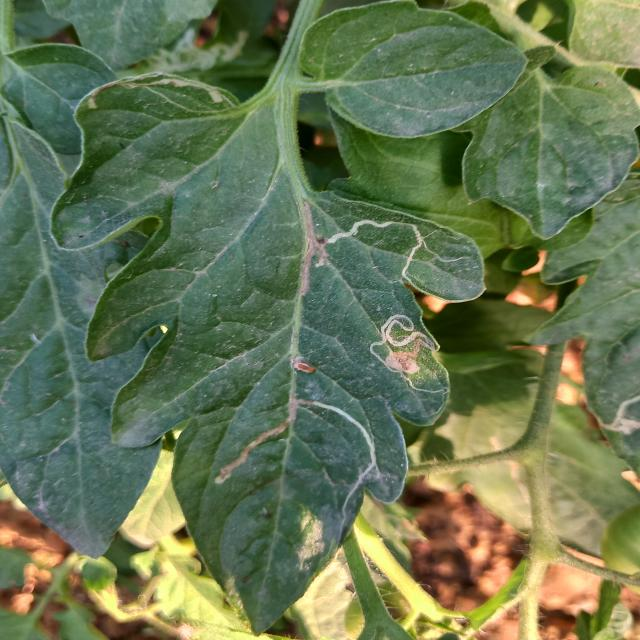Tuta absoluta: (215, 396, 377, 484), (363, 308, 441, 385), (323, 211, 409, 245), (402, 224, 426, 278)
